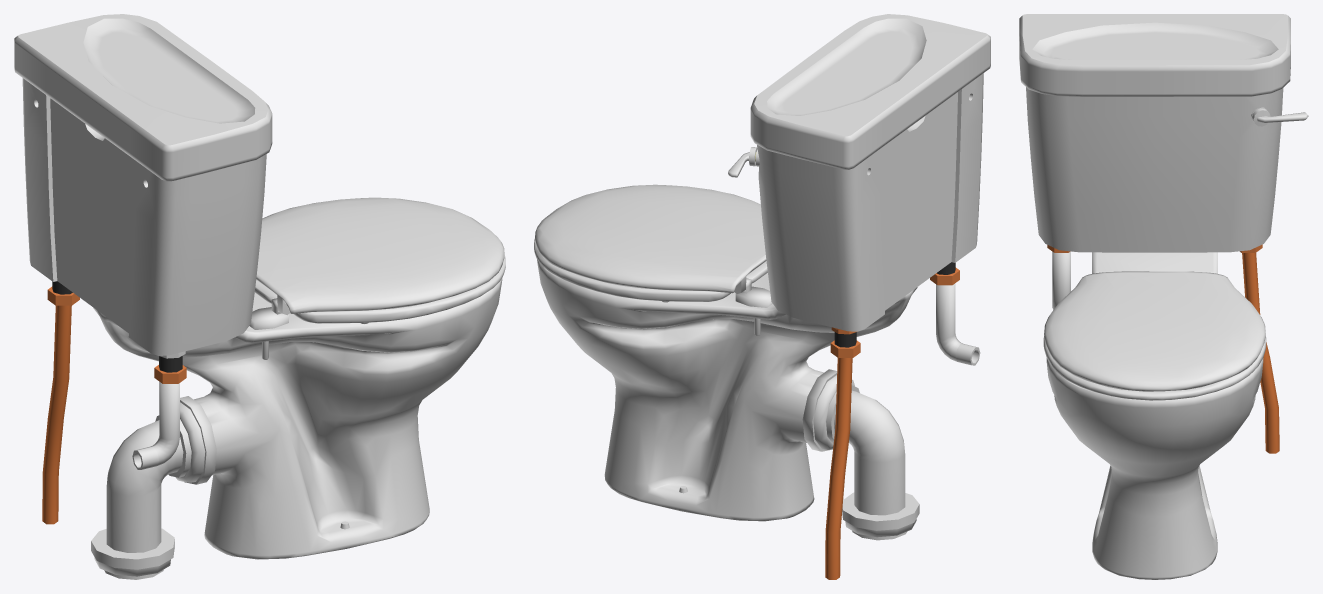
The model's file is toilet.fbx.
3 renders of one model, left to right at view 1: azimuth 30°, elevation 25°; view 2: azimuth 150°, elevation 25°; view 3: azimuth 270°, elevation 25°, orthographic. The views are drawn at different scales.
Visible parts, largest first — view 1: Cube.036, Cube.003, Cube.010, Cube.024, Cube.035, Circle.015, Cube.049, Cylinder.002, Circle.017, Cube.051; view 2: Cube.036, Cube.003, Cube.010, Cube.024, Cube.035, Circle.015, Cube.049, Cylinder.002, Circle.017, Cube.051; view 3: Cube.003, Cube.036, Cube.010, Cube.024, Cube.049, Circle.015, Cylinder.002, Circle.018.
Boxes of the visible parts, bbox=[...] form: Cube.036: bbox=[93, 278, 502, 559]; Cube.003: bbox=[22, 78, 266, 355]; Cube.010: bbox=[14, 14, 272, 181]; Cube.024: bbox=[256, 197, 504, 315]; Cube.035: bbox=[91, 396, 216, 579]; Circle.015: bbox=[42, 305, 71, 524]; Cube.049: bbox=[255, 255, 505, 323]; Cylinder.002: bbox=[132, 382, 179, 469]; Circle.017: bbox=[47, 281, 186, 383]; Cube.051: bbox=[249, 298, 288, 329]; Cube.036: bbox=[537, 259, 917, 521]; Cube.003: bbox=[757, 73, 983, 331]; Cube.010: bbox=[750, 14, 990, 169]; Cube.024: bbox=[535, 184, 766, 293]; Cube.035: bbox=[802, 369, 919, 540]; Circle.015: bbox=[825, 358, 852, 579]; Cube.049: bbox=[534, 239, 767, 302]; Cylinder.002: bbox=[936, 283, 980, 365]; Circle.017: bbox=[830, 262, 959, 357]; Cube.051: bbox=[735, 278, 772, 307]; Cube.003: bbox=[1026, 87, 1283, 252]; Cube.036: bbox=[1046, 252, 1263, 579]; Cube.010: bbox=[1019, 14, 1290, 96]; Cube.024: bbox=[1044, 271, 1265, 391]; Cube.049: bbox=[1043, 335, 1266, 400]; Circle.015: bbox=[1242, 253, 1279, 453]; Cylinder.002: bbox=[1052, 251, 1070, 309]; Circle.018: bbox=[1251, 107, 1308, 126].
Bounding box in the file's own units: 67.91 × 78.05 × 48.01.
